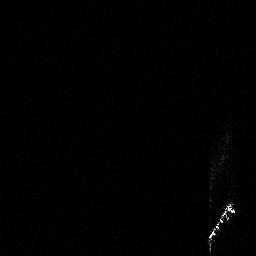ship: (208, 203, 234, 240)
